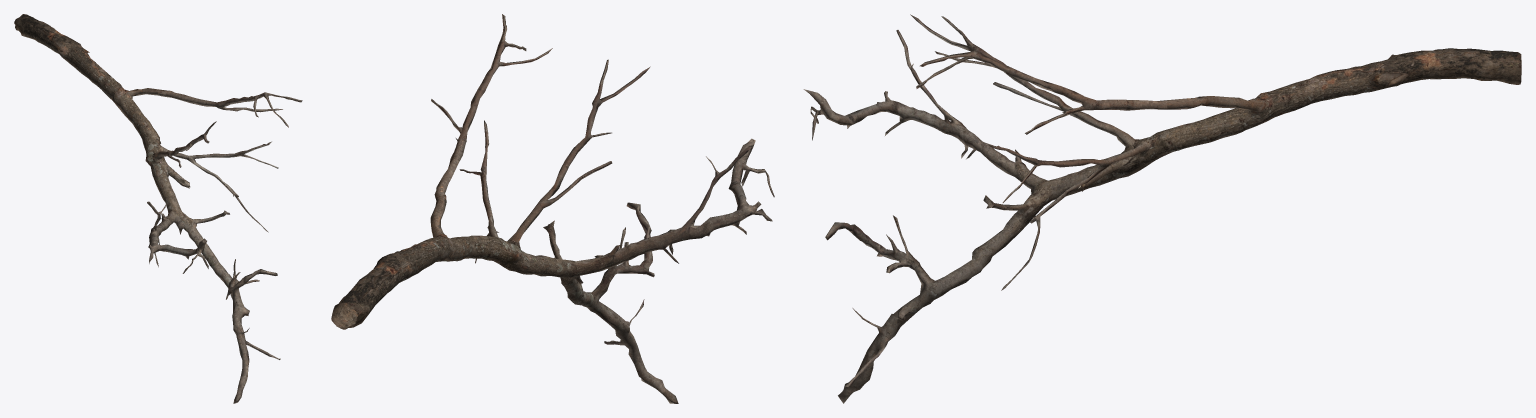
The model's file is dead_tree.glb.
3 views of the same model, side by side, from view 1: azimuth 30°, elevation 25°; view 2: azimuth 150°, elevation 25°; view 3: azimuth 270°, elevation 25° (orthographic). The views are drawn at different scales.
Visible parts, largest first — view 1: dead_tree; view 2: dead_tree; view 3: dead_tree.
Boxes of the visible parts, left/top/right/bottom form: dead_tree: left=14, top=14, right=302, bottom=403; dead_tree: left=331, top=14, right=774, bottom=403; dead_tree: left=803, top=14, right=1521, bottom=403.
Bounding box in the file's own units: 1.69 × 2.31 × 3.68.
1 material, 1 textured.
